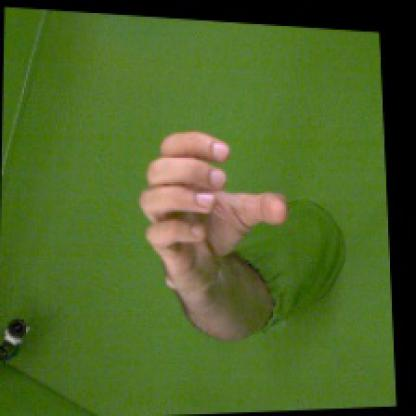Hand: (139, 132, 289, 290)
